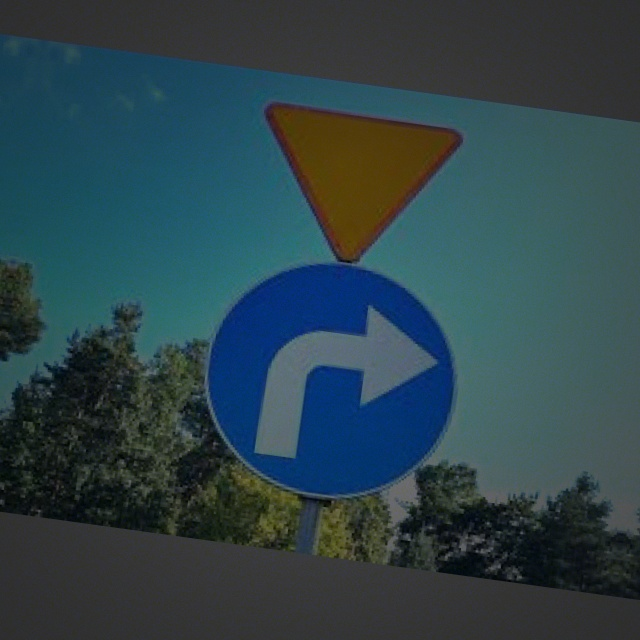Compulsory_Turn_Right_Ahead: (192, 249, 472, 509)
